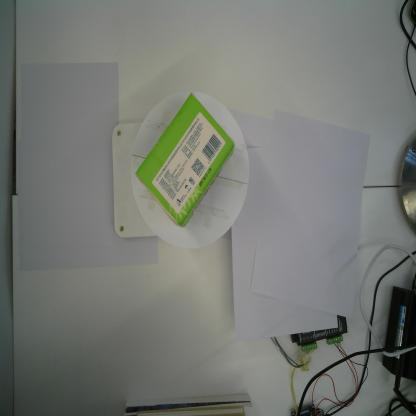Tissue: (134, 91, 235, 229)
